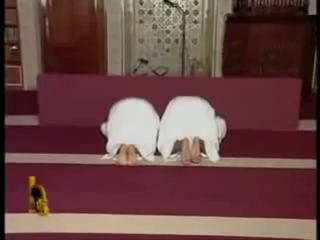sujud: (159, 94, 228, 164), (99, 98, 161, 165)
